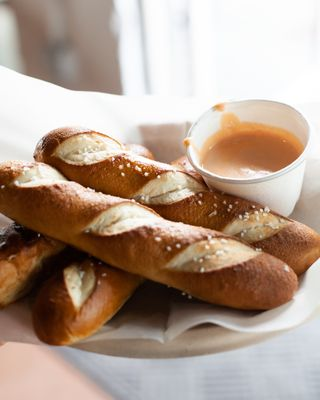pizza: (183, 98, 310, 218)
soup: (0, 126, 313, 336)
